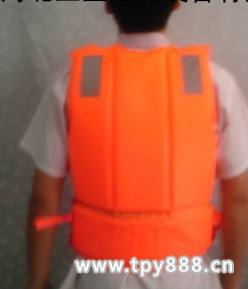reflective_clothes: (56, 17, 230, 265)
